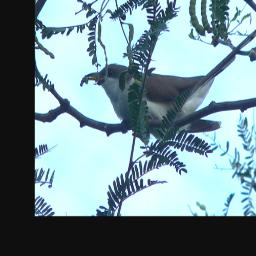Cuckoo: (81, 25, 256, 147)
